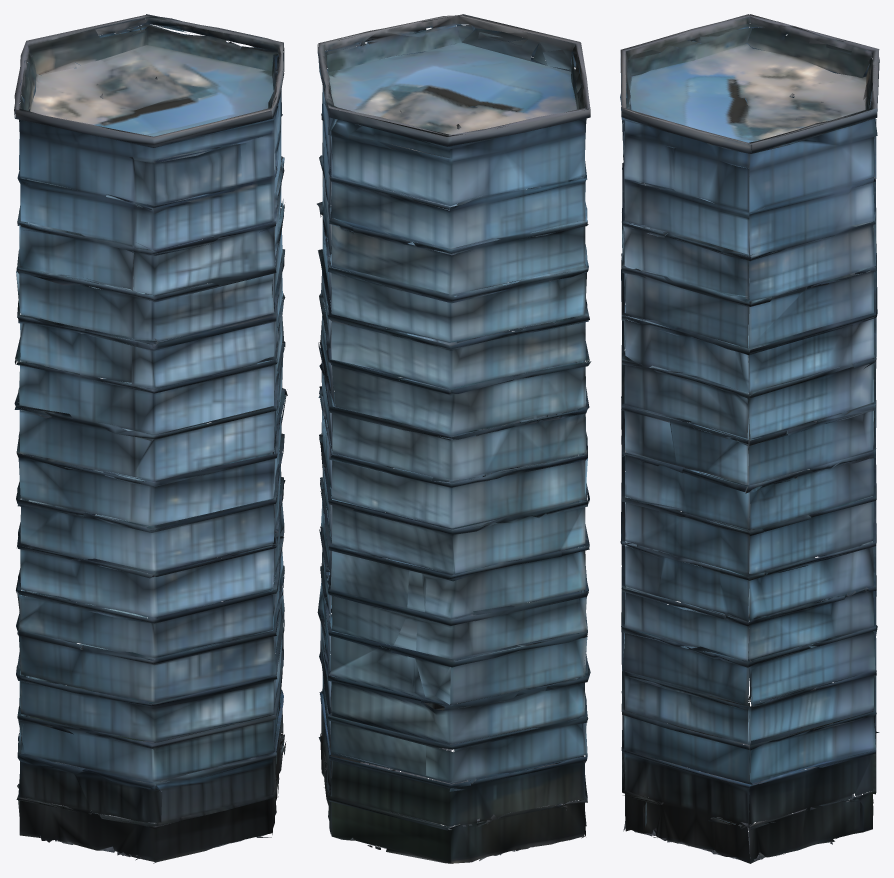
The model's file is World43ca06749a.glb.
3 renders of one model, left to right at view 1: azimuth 30°, elevation 25°; view 2: azimuth 150°, elevation 25°; view 3: azimuth 270°, elevation 25°, orthographic.
Parts seen in each view (by area): view 1: World43ca06749a; view 2: World43ca06749a; view 3: World43ca06749a.
Part boxes in pixels (x1,y1,x2,y2): World43ca06749a: [14, 14, 287, 863]; World43ca06749a: [317, 14, 591, 863]; World43ca06749a: [620, 14, 879, 863].
Bounding box in the file's own units: 2.73 × 7.03 × 2.27.
Materials: 1 (1 with a texture image).
